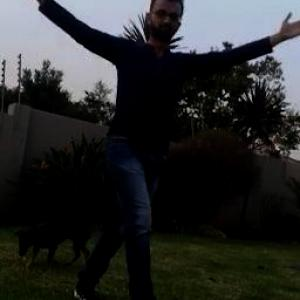takeoff: (18, 0, 288, 290)
